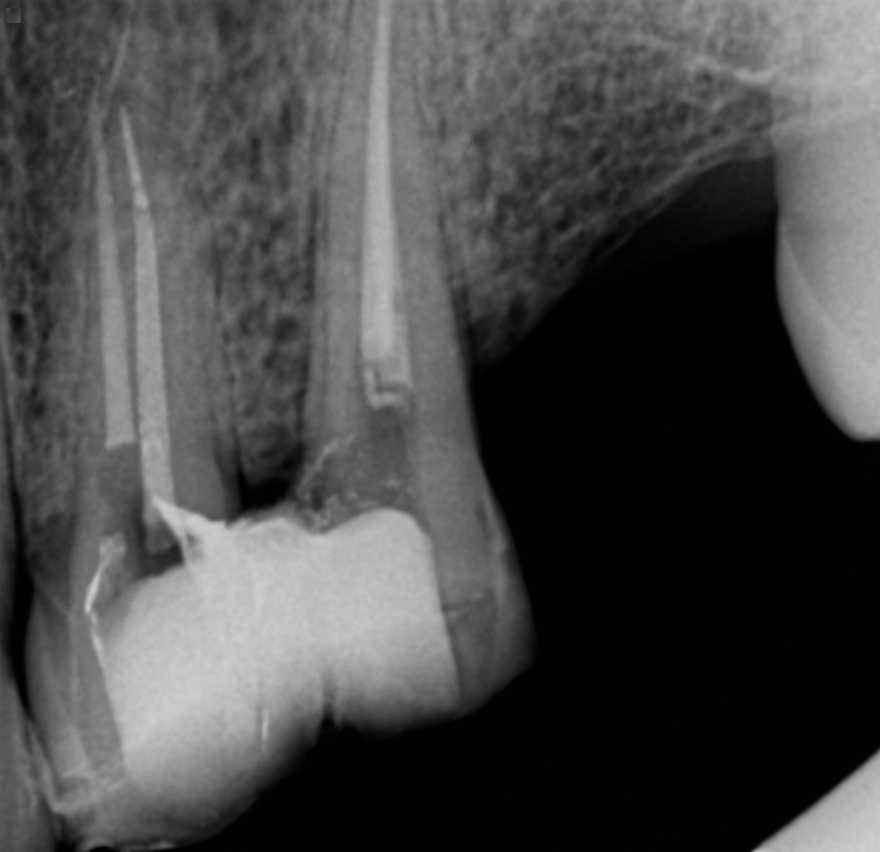Main Root: (24, 91, 244, 574), (301, 1, 483, 495)
Root Canal Filling: (115, 100, 181, 535), (359, 12, 415, 404), (97, 124, 136, 454)
